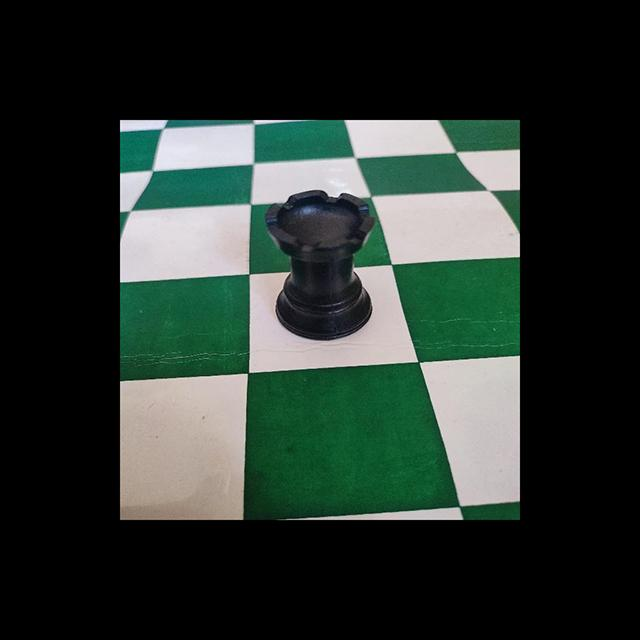black-rook: (264, 188, 378, 342)
